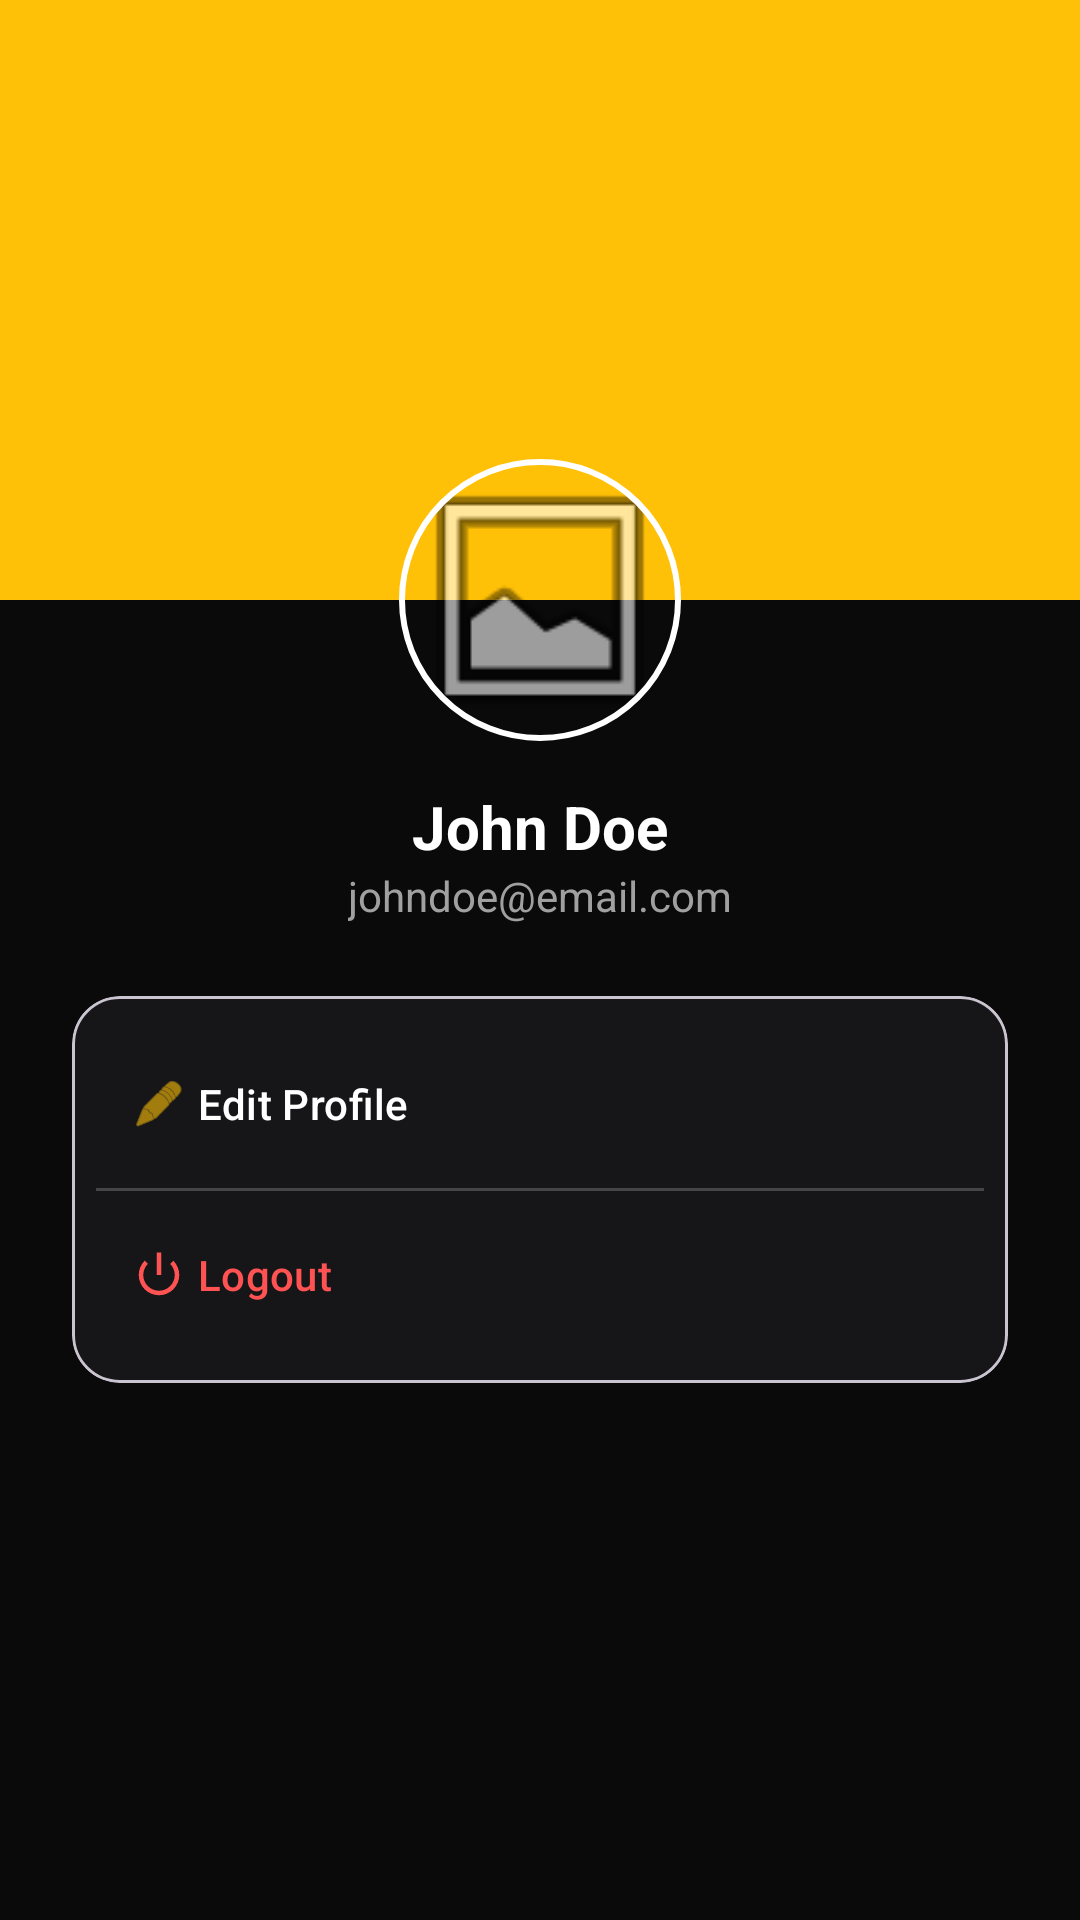

Point at icon controls on the screen. Image size 1080px x 1920px, points as (x=x, y=y).
gallery: (x=540, y=600)
